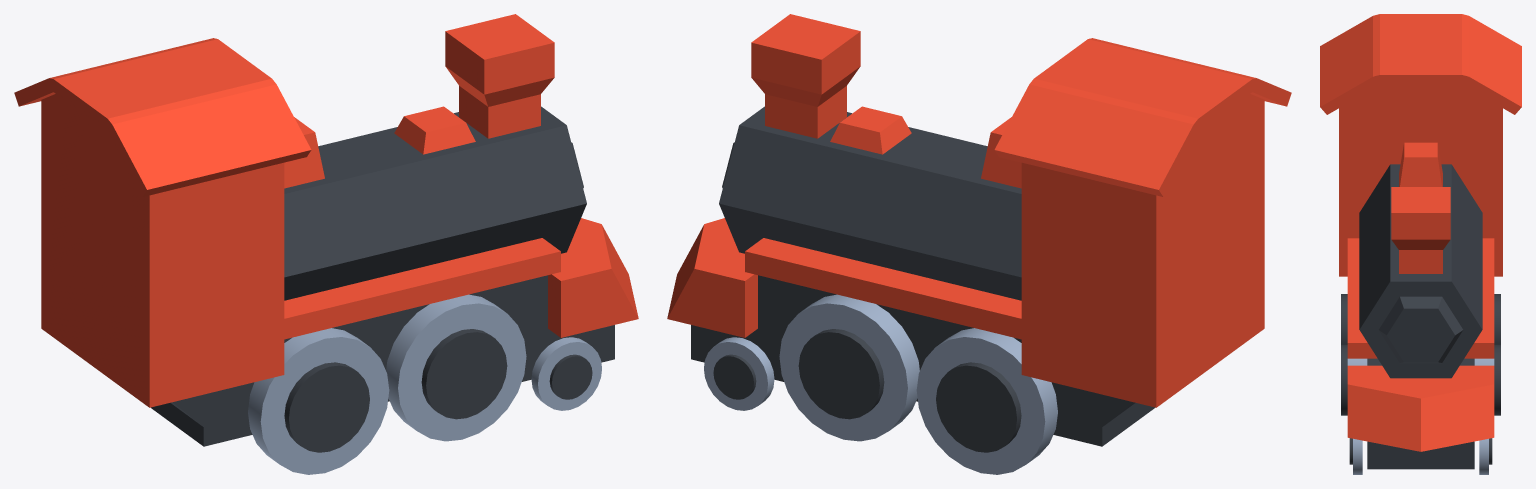
The model's file is trainLocomotive.fbx.
3 renders of one model, left to right at view 1: azimuth 30°, elevation 25°; view 2: azimuth 150°, elevation 25°; view 3: azimuth 270°, elevation 25°, orthographic. The views are drawn at different scales.
Visible parts, largest first — view 1: trainLocomotive, wheel; view 2: trainLocomotive, wheel; view 3: trainLocomotive, wheel (×2).
Boxes of the visible parts, box(x1,y1,x2,y2) form: trainLocomotive: box(14, 14, 638, 446); wheel: box(248, 294, 601, 474); trainLocomotive: box(667, 14, 1291, 446); wheel: box(704, 294, 1057, 474); trainLocomotive: box(1320, 14, 1521, 469); wheel (×2): box(1341, 294, 1500, 474).
Bounding box in the file's own units: 4.15 × 2.8 × 1.74.
